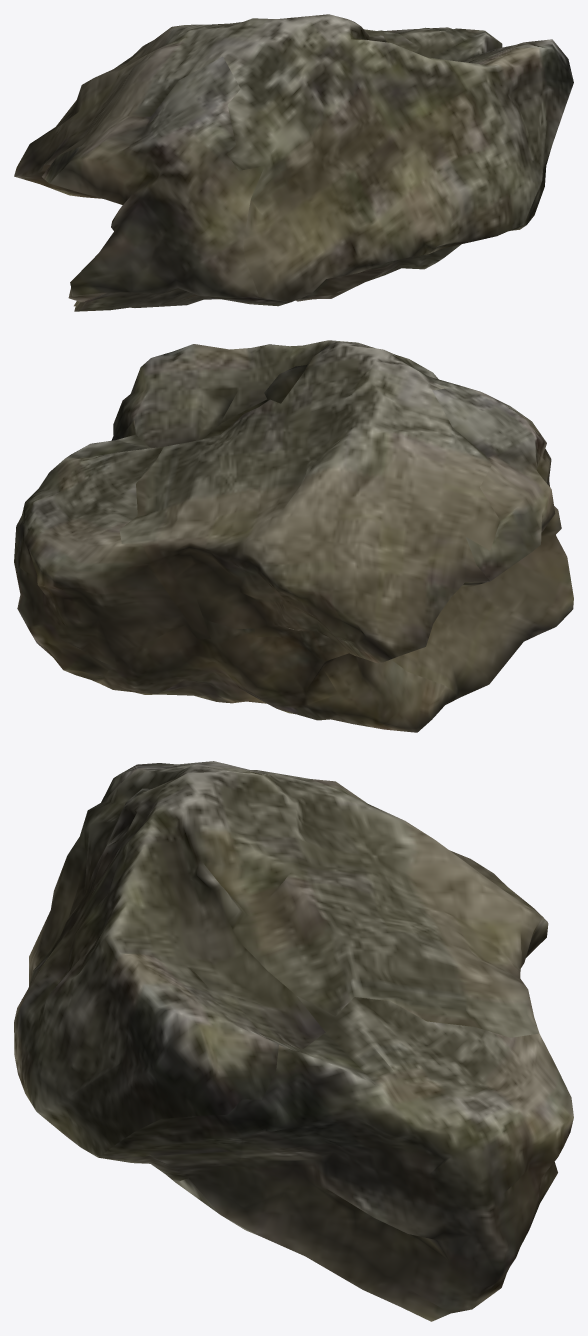
The model's file is rock-c.glb.
3 views of the same model, one above another, from view 1: azimuth 30°, elevation 25°; view 2: azimuth 150°, elevation 25°; view 3: azimuth 270°, elevation 25° (orthographic). The views are drawn at different scales.
Parts seen in each view (by area): view 1: rock_moss_set_02_rock11; view 2: rock_moss_set_02_rock11; view 3: rock_moss_set_02_rock11.
Boxes of the visible parts, left/top/right/bottom form: rock_moss_set_02_rock11: left=14, top=14, right=573, bottom=311; rock_moss_set_02_rock11: left=14, top=340, right=573, bottom=732; rock_moss_set_02_rock11: left=14, top=761, right=573, bottom=1321.
Size of the model in its own units: 1.95 by 1.3 by 1.53.
1 material, 1 textured.
